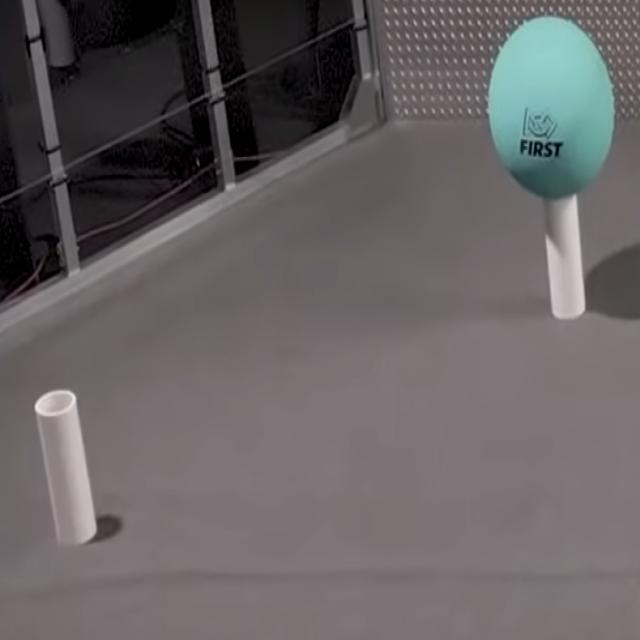Algae: (488, 17, 614, 200)
Coral: (34, 389, 97, 548), (544, 194, 586, 321)
